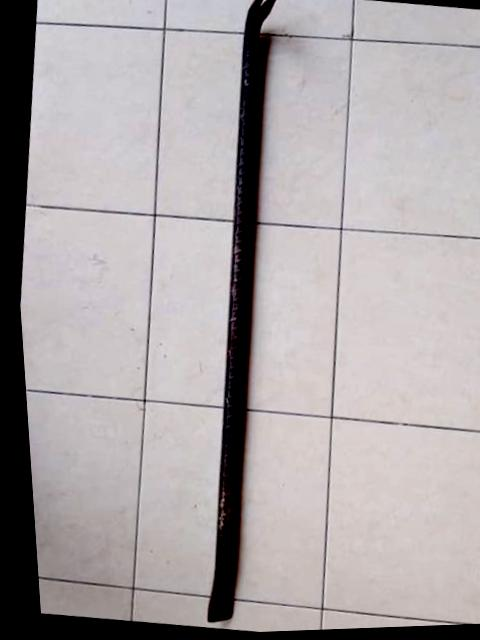crow bar: (194, 0, 282, 628)
